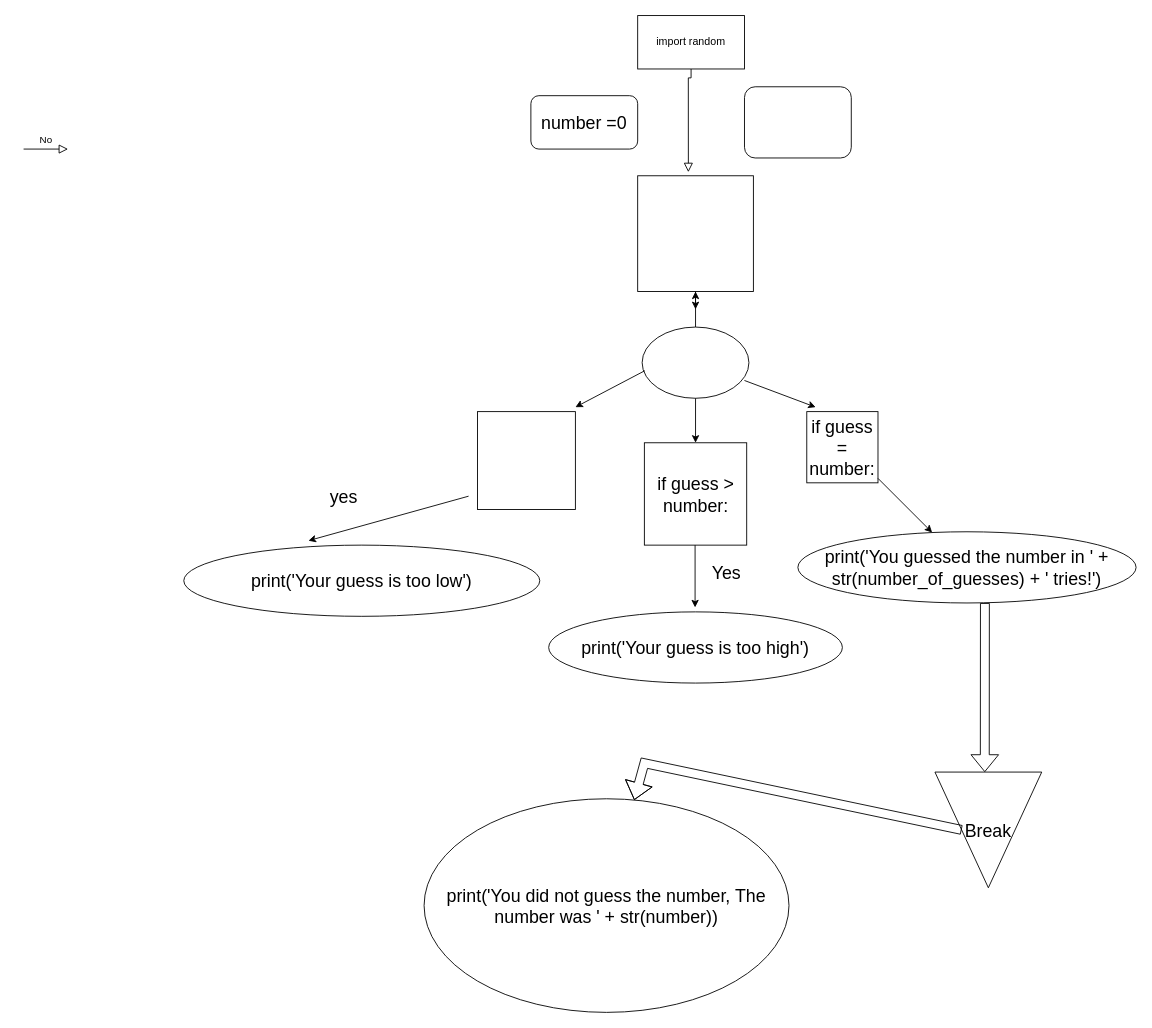
The diagram is 1152 pixels wide and 1028 high, and some of its shapes have lost their labels. The box of each missing label's shape, as (x1, y1, x2, y2) in pixels:
guess: (637, 175, 753, 291)
if guess < number:: (477, 411, 575, 510)
random_number = random.ranint(1,100): (744, 86, 851, 158)
while loop: (641, 326, 749, 398)
